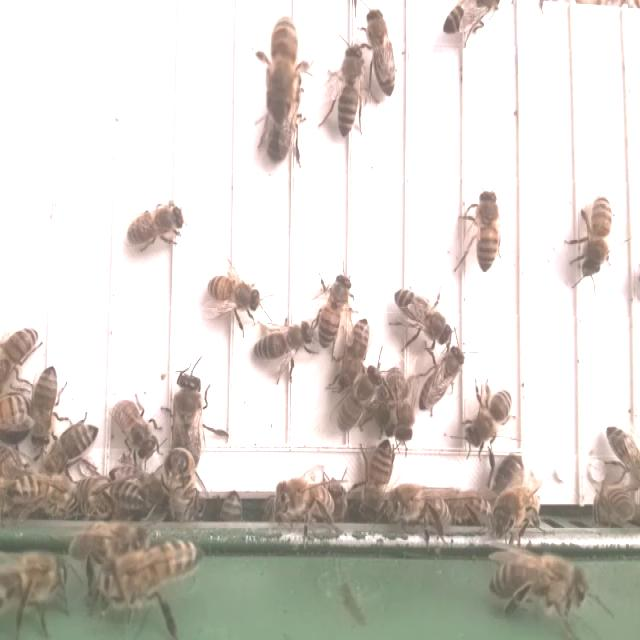Drone: (165, 369, 209, 464)
Worker: (318, 41, 371, 136), (104, 392, 165, 467), (199, 266, 269, 328), (387, 478, 456, 537), (390, 284, 453, 348), (331, 363, 387, 435), (122, 196, 186, 253), (461, 384, 516, 450), (577, 189, 615, 282), (263, 15, 300, 110), (418, 347, 466, 418), (328, 316, 373, 391), (6, 467, 74, 516), (365, 5, 401, 97), (470, 183, 506, 275), (45, 419, 102, 475), (27, 361, 62, 452), (254, 317, 314, 370), (314, 270, 353, 349), (361, 434, 398, 511), (382, 360, 415, 446), (91, 468, 150, 514), (276, 483, 338, 521)
